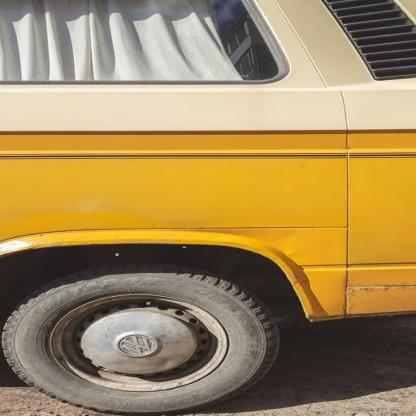Tire: (0, 266, 282, 415)
